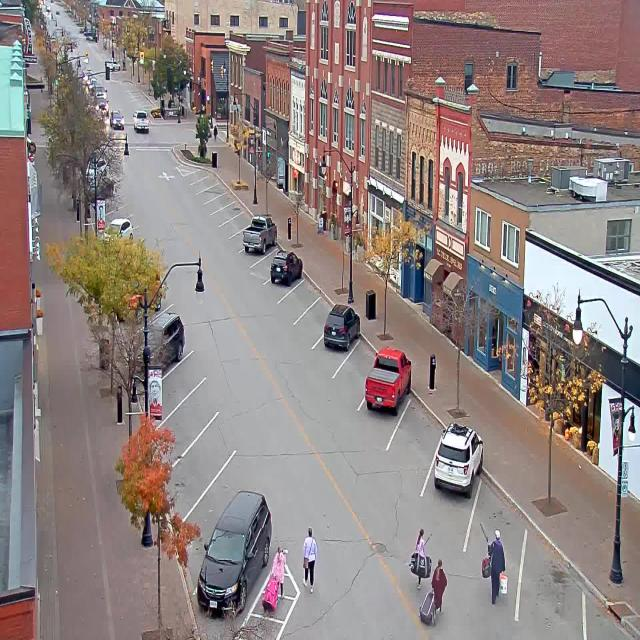available: (515, 516, 595, 624), (190, 447, 272, 541), (469, 464, 534, 570), (174, 409, 242, 495), (165, 369, 229, 445), (389, 380, 449, 460), (156, 334, 216, 405), (581, 590, 640, 640), (339, 325, 384, 386), (307, 294, 337, 338), (290, 274, 320, 315), (252, 234, 279, 278), (231, 204, 253, 234), (208, 172, 228, 204), (223, 195, 244, 224), (200, 164, 218, 193), (216, 184, 234, 212), (190, 156, 207, 182)
occupied: (196, 489, 272, 617), (434, 421, 484, 498), (364, 345, 412, 414), (142, 308, 185, 366), (323, 303, 360, 351), (242, 214, 277, 254), (270, 250, 303, 286)
